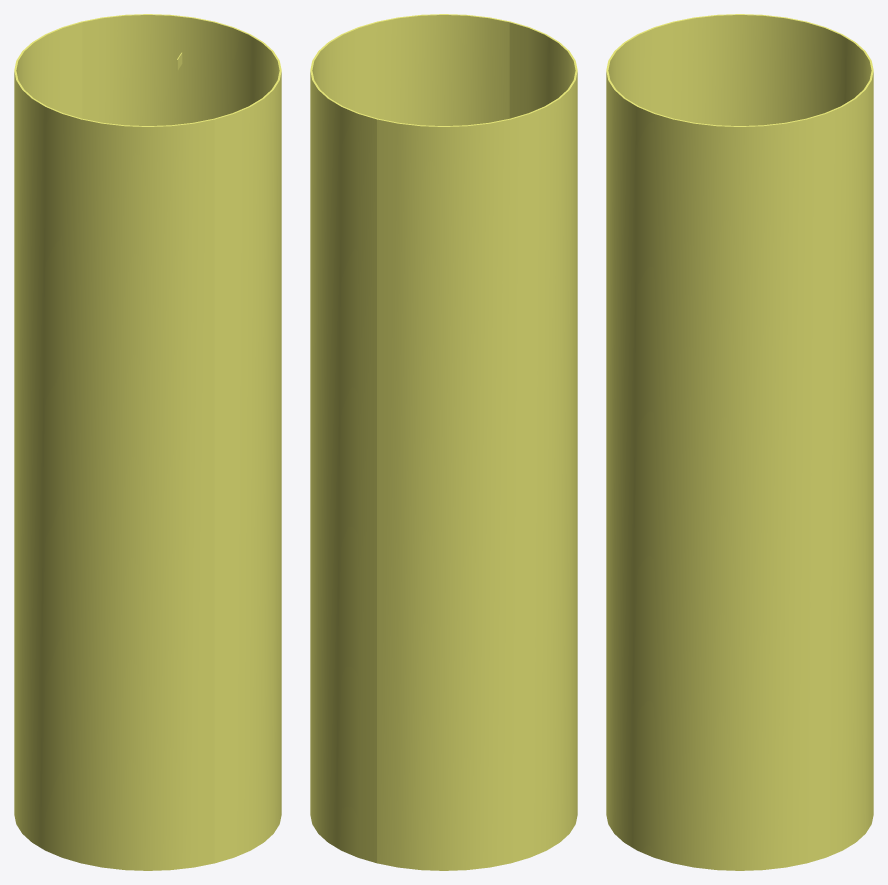
File: Image-1709269336970-Crane-pedestal.fbx
3 renders of one model, left to right at view 1: azimuth 30°, elevation 25°; view 2: azimuth 150°, elevation 25°; view 3: azimuth 270°, elevation 25°, orthographic.
Parts seen in each view (by area): view 1: /HO-N-MS/CR/CR/CR/S1/OD001; view 2: /HO-N-MS/CR/CR/CR/S1/OD001; view 3: /HO-N-MS/CR/CR/CR/S1/OD001.
Part boxes in pixels (x1,y1,x2,y2): /HO-N-MS/CR/CR/CR/S1/OD001: [14, 14, 281, 870]; /HO-N-MS/CR/CR/CR/S1/OD001: [310, 14, 577, 870]; /HO-N-MS/CR/CR/CR/S1/OD001: [606, 14, 873, 870].
Bounding box in the file's own units: 4.4 × 4.4 × 13.5.
